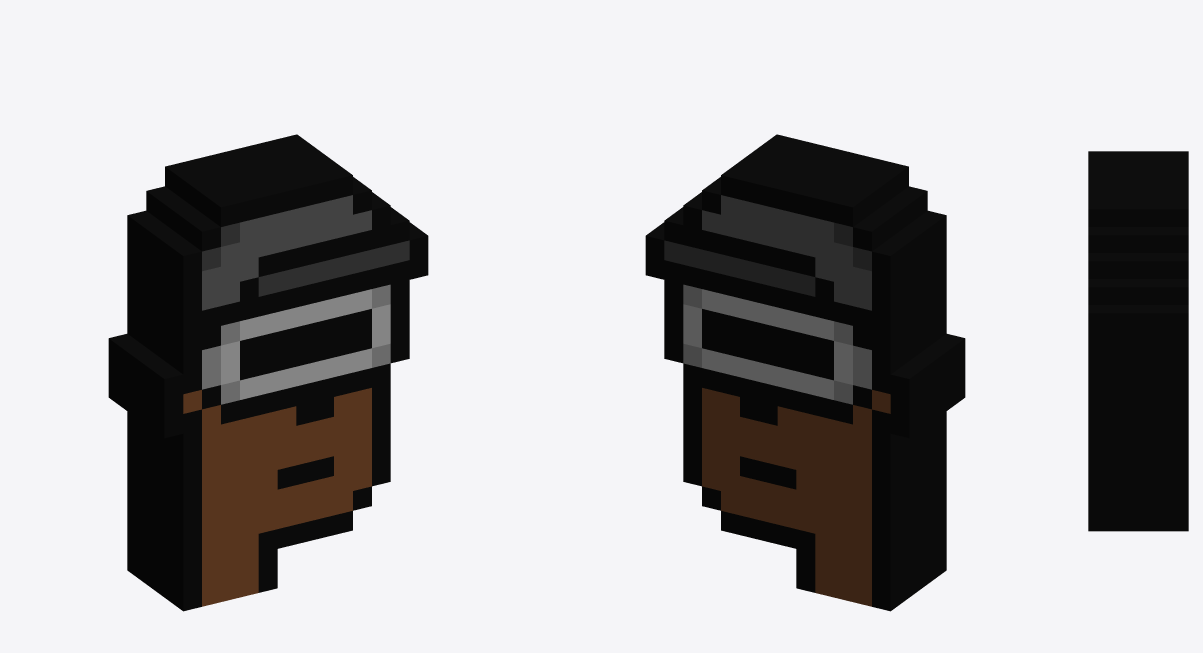
Rendered from ARPunk8489.glb.
3 renders of one model, left to right at view 1: azimuth 30°, elevation 25°; view 2: azimuth 150°, elevation 25°; view 3: azimuth 270°, elevation 25°, orthographic. The views are drawn at different scales.
Parts seen in each view (by area): view 1: Mesh_266.011, Mesh_415.011, Mesh_435.011, Mesh_460.011, Mesh_242.011, Mesh_218.011, Mesh_127.011, Mesh_103.011, Mesh_151.011, Mesh_295.011, Mesh_31.011, Mesh_391.011 (+13 smaller); view 2: Mesh_266.011, Mesh_415.011, Mesh_435.011, Mesh_460.011, Mesh_242.011, Mesh_218.011, Mesh_127.011, Mesh_103.011, Mesh_151.011, Mesh_295.011, Mesh_31.011, Mesh_391.011 (+13 smaller); view 3: Mesh_380.011, Mesh_398.011, Mesh_423.011, Mesh_453.011, Mesh_474.011, Mesh_135.011, Mesh_159.011, Mesh_302.011, Mesh_111.011, Mesh_183.011, Mesh_207.011, Mesh_254.011 (+13 smaller).
Boxes of the visible parts, <box> form: Mesh_266.011: <box>108,333,183,398</box>; Mesh_415.011: <box>127,210,201,275</box>; Mesh_435.011: <box>146,186,220,251</box>; Mesh_460.011: <box>165,162,239,226</box>; Mesh_242.011: <box>108,358,183,418</box>; Mesh_218.011: <box>108,378,183,438</box>; Mesh_127.011: <box>127,452,201,512</box>; Mesh_103.011: <box>127,472,201,532</box>; Mesh_151.011: <box>127,432,201,492</box>; Mesh_295.011: <box>127,314,201,374</box>; Mesh_31.011: <box>127,531,201,591</box>; Mesh_391.011: <box>127,235,201,295</box>; Mesh_266.011: <box>890,333,965,398</box>; Mesh_415.011: <box>872,210,946,275</box>; Mesh_435.011: <box>853,186,927,251</box>; Mesh_460.011: <box>834,162,908,226</box>; Mesh_242.011: <box>890,358,965,418</box>; Mesh_218.011: <box>890,378,965,438</box>; Mesh_127.011: <box>872,452,946,512</box>; Mesh_103.011: <box>872,472,946,532</box>; Mesh_151.011: <box>872,432,946,492</box>; Mesh_295.011: <box>872,314,946,374</box>; Mesh_31.011: <box>872,531,946,591</box>; Mesh_391.011: <box>872,235,946,295</box>; Mesh_380.011: <box>1088,305,1188,331</box>; Mesh_398.011: <box>1088,279,1188,304</box>; Mesh_423.011: <box>1088,253,1188,278</box>; Mesh_453.011: <box>1088,227,1188,252</box>; Mesh_474.011: <box>1088,201,1188,226</box>; Mesh_135.011: <box>1088,474,1188,492</box>; Mesh_159.011: <box>1088,456,1188,474</box>; Mesh_302.011: <box>1088,358,1188,376</box>; Mesh_111.011: <box>1088,492,1188,509</box>; Mesh_183.011: <box>1088,439,1188,456</box>; Mesh_207.011: <box>1088,421,1188,438</box>; Mesh_254.011: <box>1088,394,1188,411</box>.
Bounding box in the file's own units: 24 × 24 × 5.13.
1 material, 1 textured.
